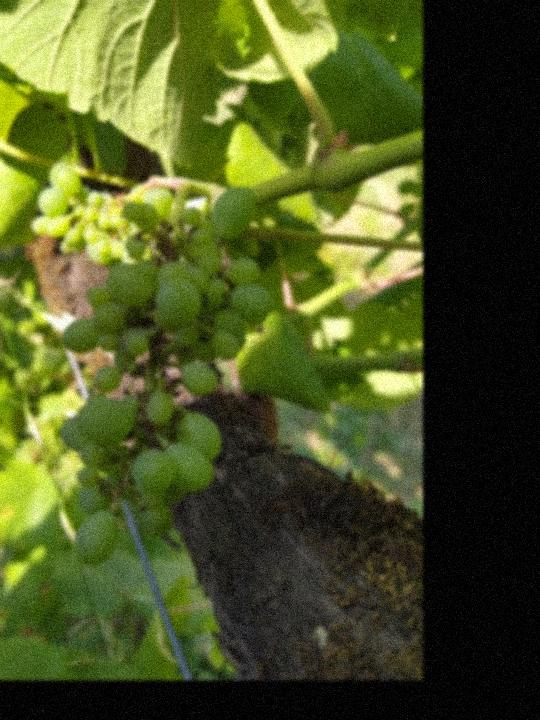grape: (55, 159, 277, 570), (26, 153, 130, 265)
